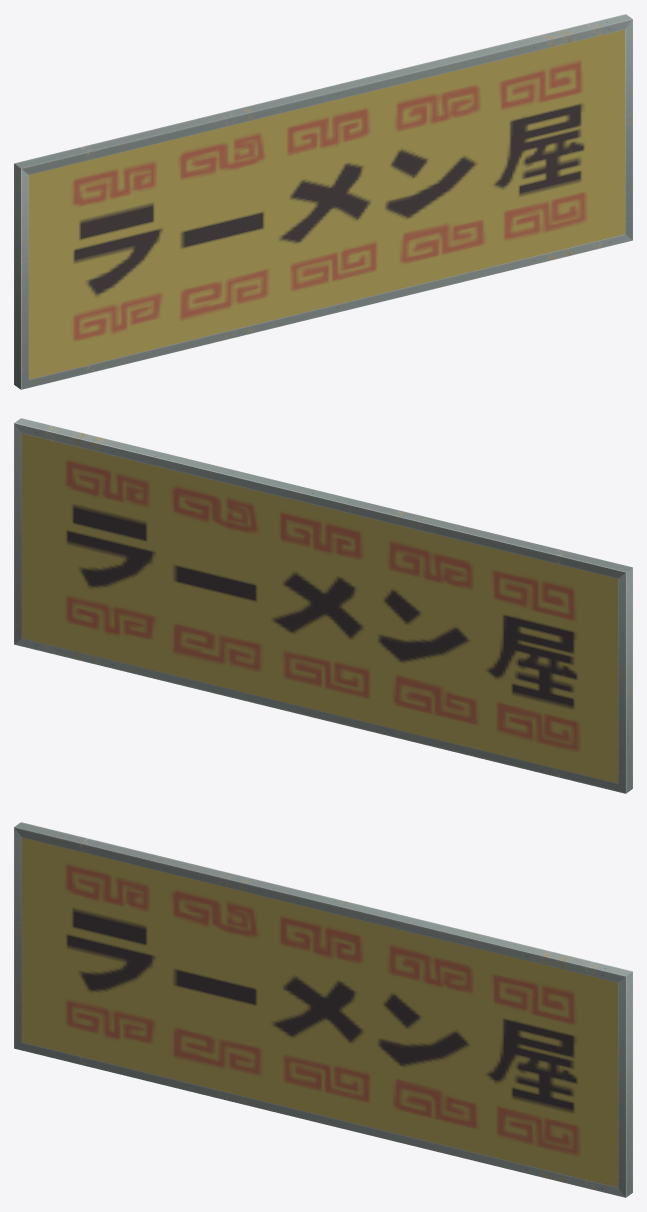
File: shopboard06a.fbx
3 views of the same model, one above another, from view 1: azimuth 30°, elevation 25°; view 2: azimuth 150°, elevation 25°; view 3: azimuth 330°, elevation 25° (orthographic).
Visible parts, largest first — view 1: shopboard06a; view 2: shopboard06a; view 3: shopboard06a.
Part boxes in pixels (<box>): shopboard06a: <box>14,14,632,389</box>; shopboard06a: <box>14,418,632,793</box>; shopboard06a: <box>14,822,632,1197</box>.
Size of the model in its own units: 126 by 43.39 by 2.51.
